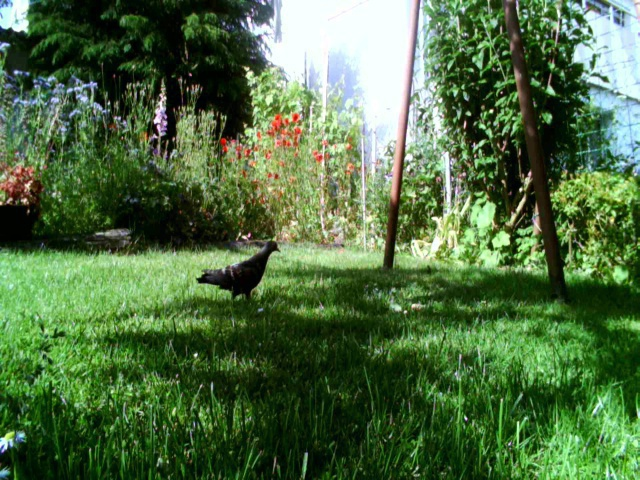Pigeon: (190, 237, 292, 309)
